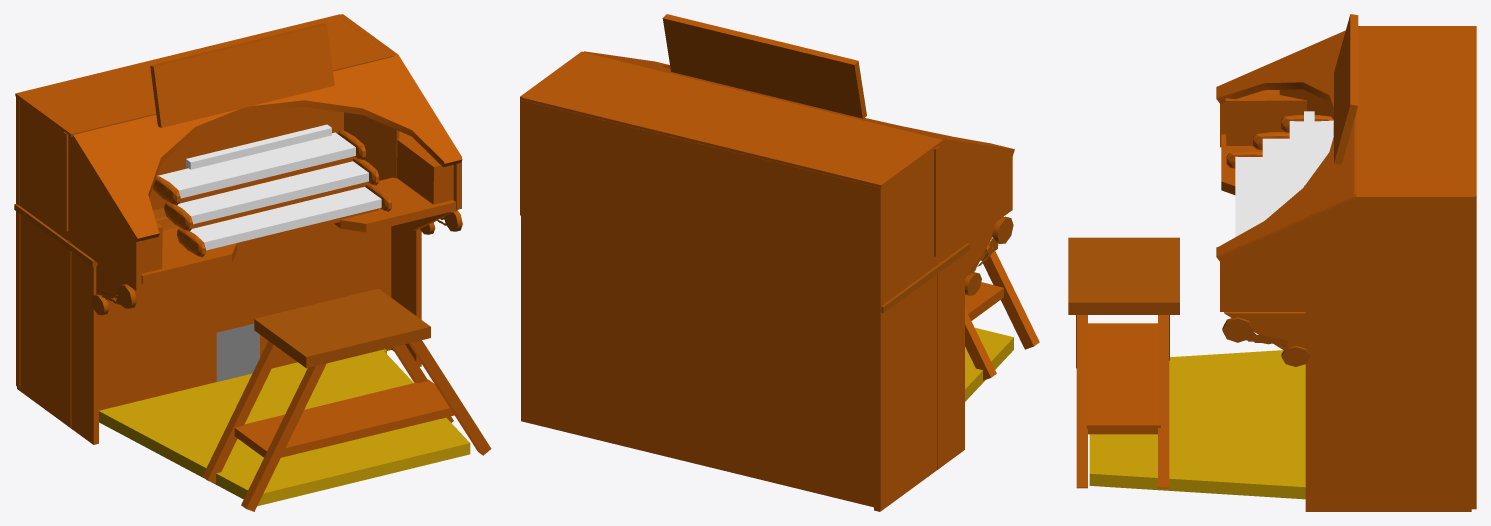
Rendered from sh-contrib-allen-organ.glb.
3 renders of one model, left to right at view 1: azimuth 30°, elevation 25°; view 2: azimuth 150°, elevation 25°; view 3: azimuth 270°, elevation 25°, orthographic. The views are drawn at different scales.
Visible parts, largest first — view 1: Cube_1, Boolean_left, Boolean_3, manualkeys, midcrossmember, swellpedals, trems, Cylinder_1; view 2: Cube_1, Boolean_left, Boolean_3, midcrossmember, Cylinder_1; view 3: Cube_1, Boolean_left, Boolean_3, midcrossmember, manualkeys, Cylinder_1, trems.
Part boxes in pixels (box(x1,y1,x2,y2)): Cube_1: box(15, 14, 491, 511); Boolean_left: box(20, 14, 462, 290); Boolean_3: box(99, 349, 470, 506); manualkeys: box(157, 132, 381, 250); midcrossmember: box(14, 204, 446, 368); swellpedals: box(216, 324, 259, 381); trems: box(186, 124, 331, 169); Cylinder_1: box(91, 210, 462, 315); Cube_1: box(521, 14, 1039, 511); Boolean_left: box(520, 51, 1014, 303); Boolean_3: box(965, 327, 1013, 401); midcrossmember: box(881, 237, 998, 313); Cylinder_1: box(965, 216, 1013, 295); Cube_1: box(1076, 14, 1476, 511); Boolean_left: box(1216, 30, 1475, 311); Boolean_3: box(1089, 350, 1305, 499); midcrossmember: box(1068, 237, 1288, 348); manualkeys: box(1235, 120, 1333, 236); Cylinder_1: box(1222, 317, 1309, 366); trems: box(1304, 111, 1314, 186).
Bounding box in the file's own units: 1 × 1 × 1.
